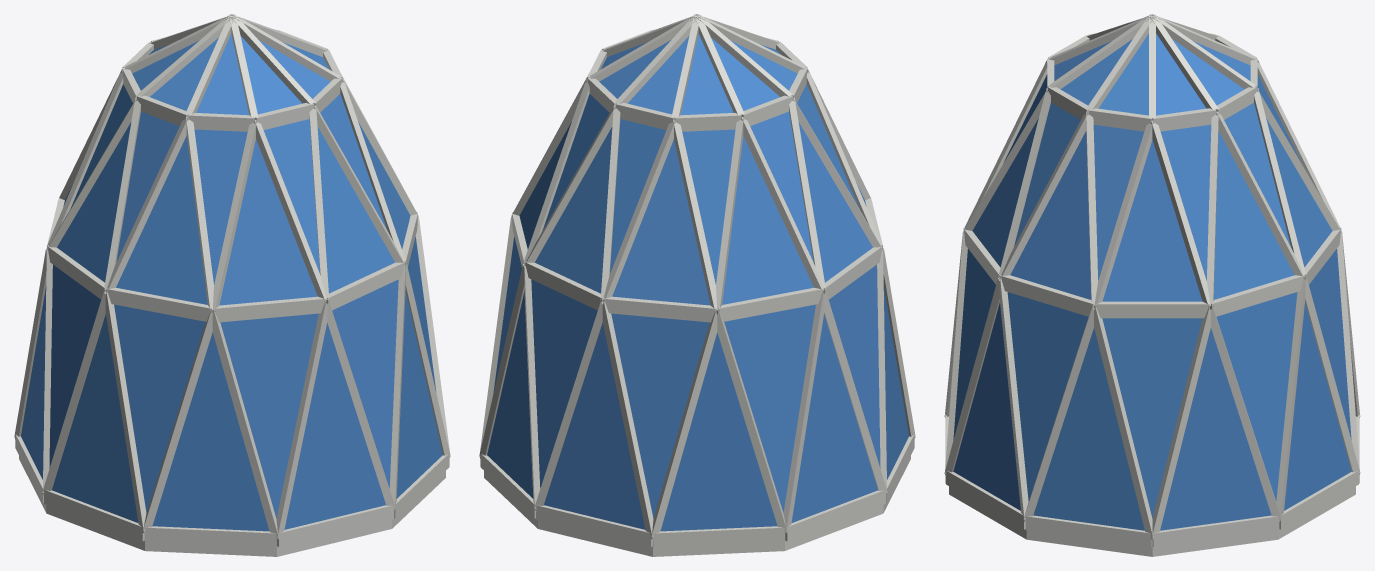
File: GeodesicDome.obj
3 renders of one model, left to right at view 1: azimuth 30°, elevation 25°; view 2: azimuth 150°, elevation 25°; view 3: azimuth 270°, elevation 25°, orthographic.
Size of the model in its own units: 0.8784 by 1 by 0.836.
